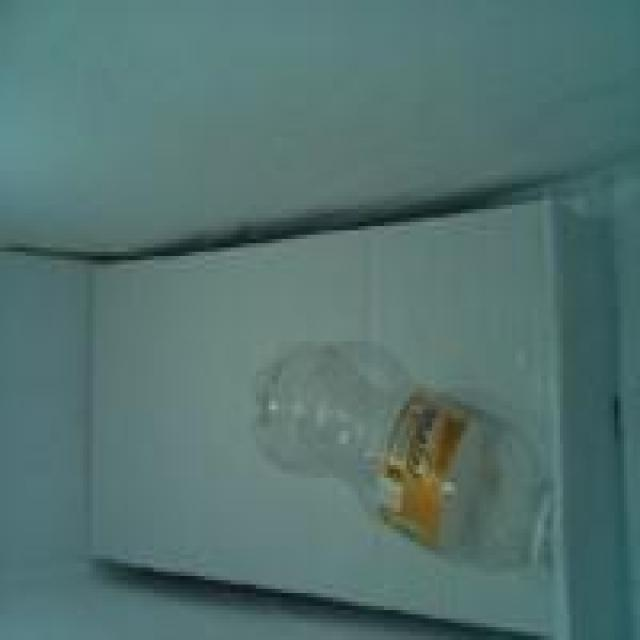bottle: (240, 325, 580, 597)
